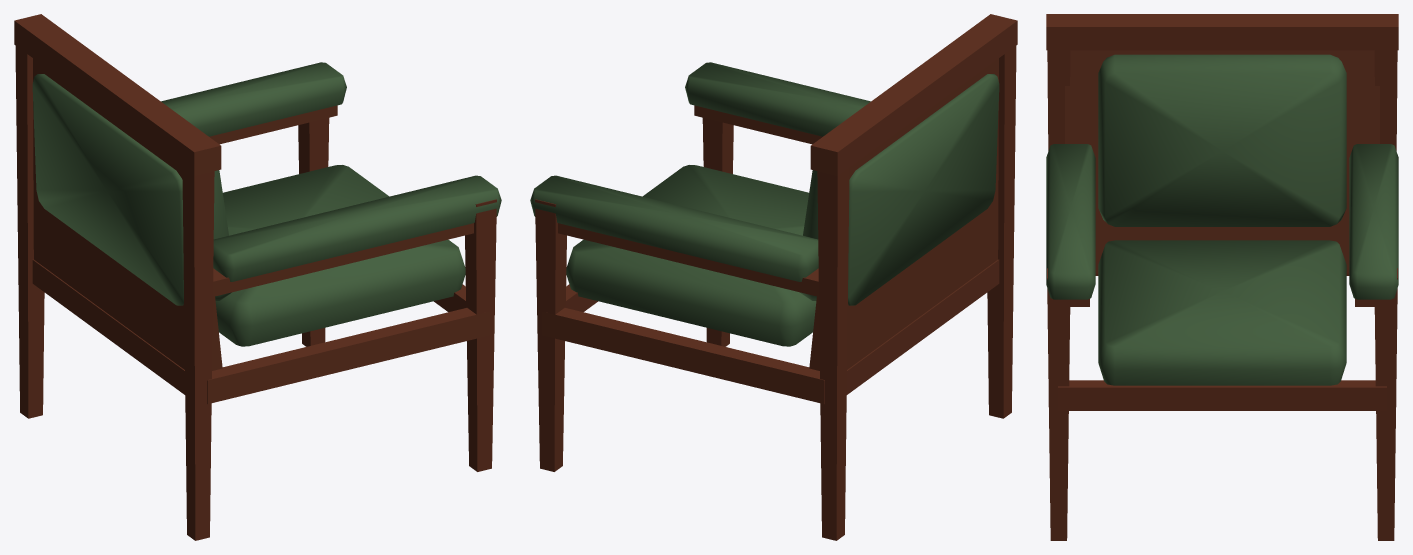
The model's file is parametric-armchair-1st.glb.
3 views of the same model, side by side, from view 1: azimuth 30°, elevation 25°; view 2: azimuth 150°, elevation 25°; view 3: azimuth 270°, elevation 25° (orthographic). The views are drawn at different scales.
Parts seen in each view (by area): view 1: parametric-armchair-1st; view 2: parametric-armchair-1st; view 3: parametric-armchair-1st.
Part boxes in pixels (<box>): parametric-armchair-1st: <box>14,14,501,540</box>; parametric-armchair-1st: <box>530,14,1017,540</box>; parametric-armchair-1st: <box>1046,14,1398,540</box>.
Size of the model in its own units: 0.75 by 0.9 by 0.75.
